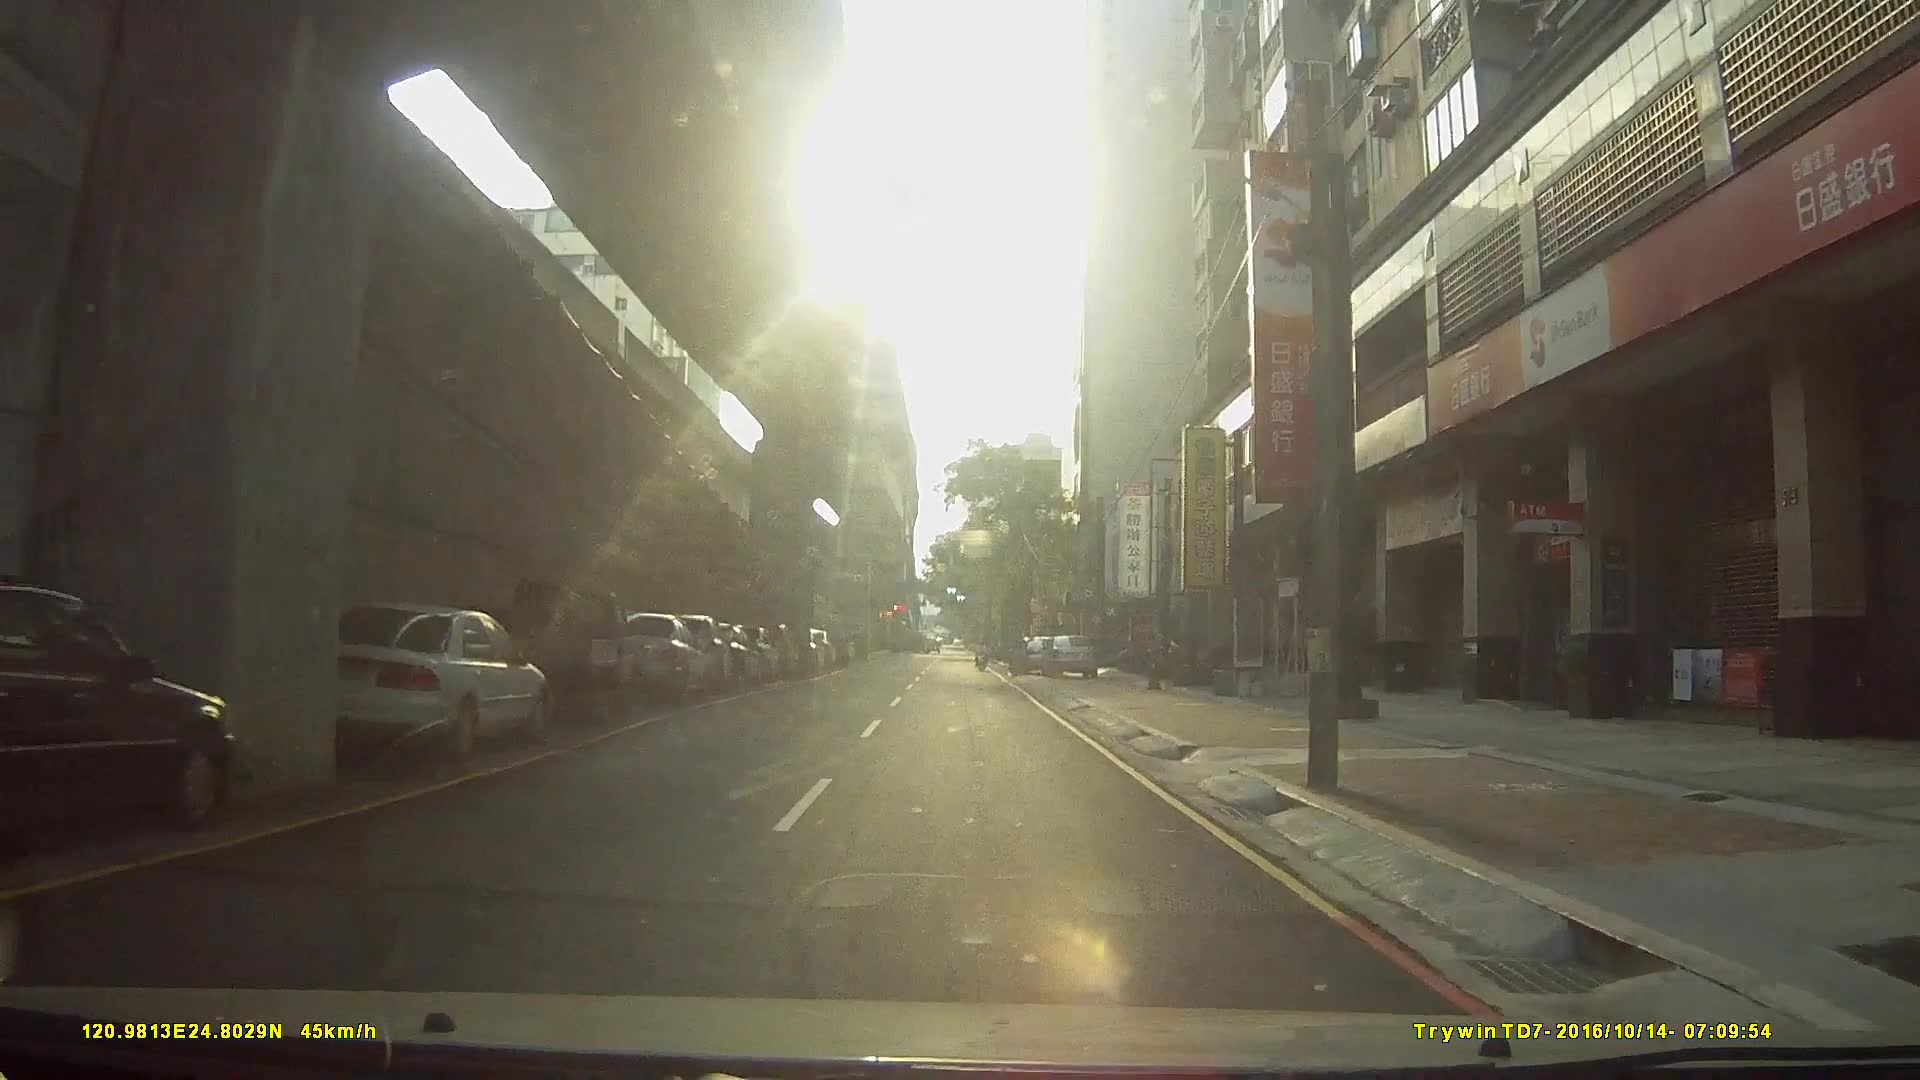vehicle: (0, 579, 237, 837), (301, 600, 546, 765), (454, 584, 641, 715), (585, 612, 709, 708), (659, 620, 794, 670), (1036, 632, 1098, 679)
